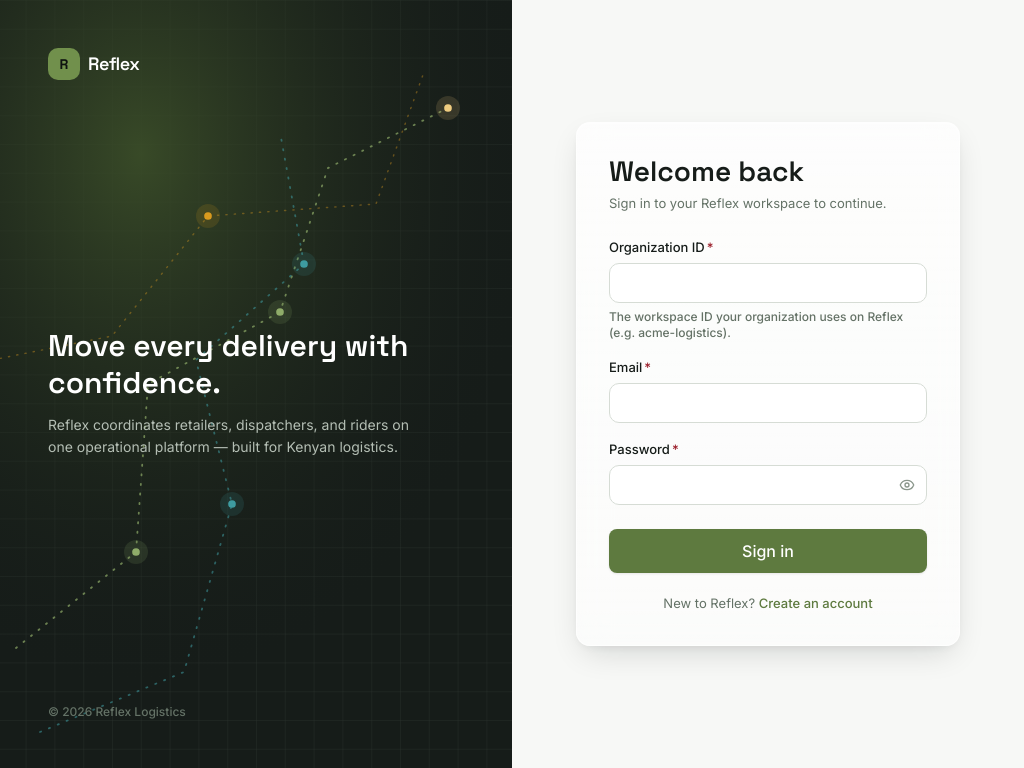
Test: LoginPage › blocks submission and shows validation errors when fields are empty
Expected: the heading "Welcome back" is shown, [609,153,804,189]
Click the button "Sign in". click: (768, 551)
box: [609,529,927,573]
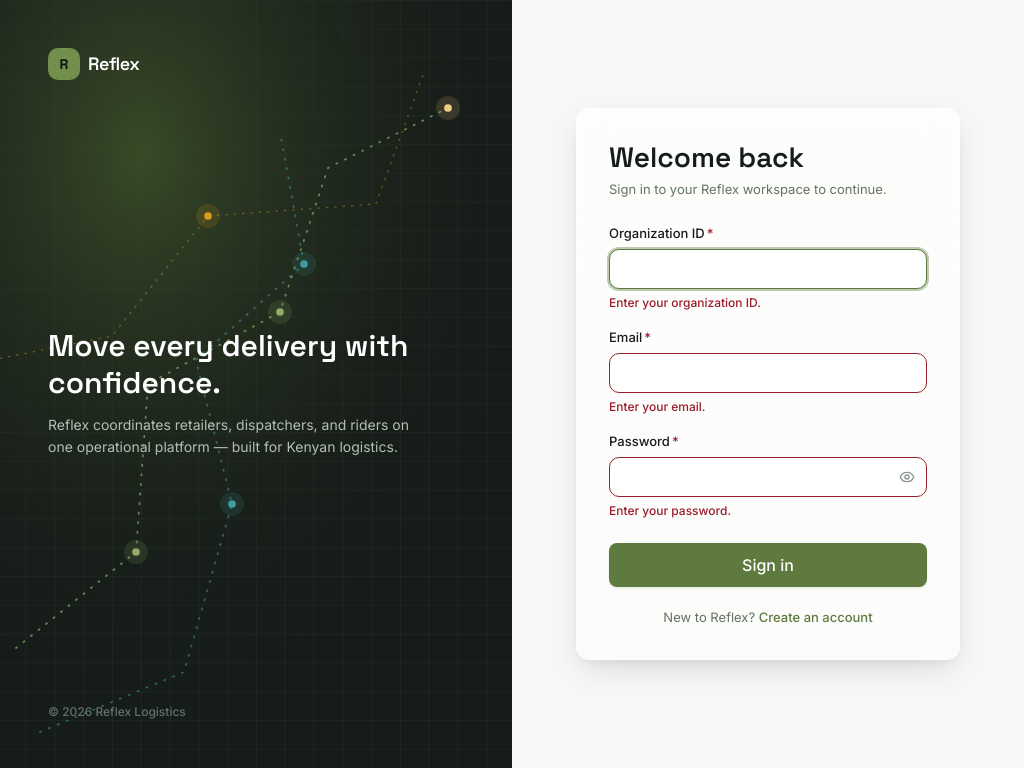
Result: the text "Enter your organization ID." is shown at [609,295,761,310]
Result: the text "Enter your email." is shown at [609,399,706,414]
Result: the text "Enter your password." is shown at [609,503,731,518]
